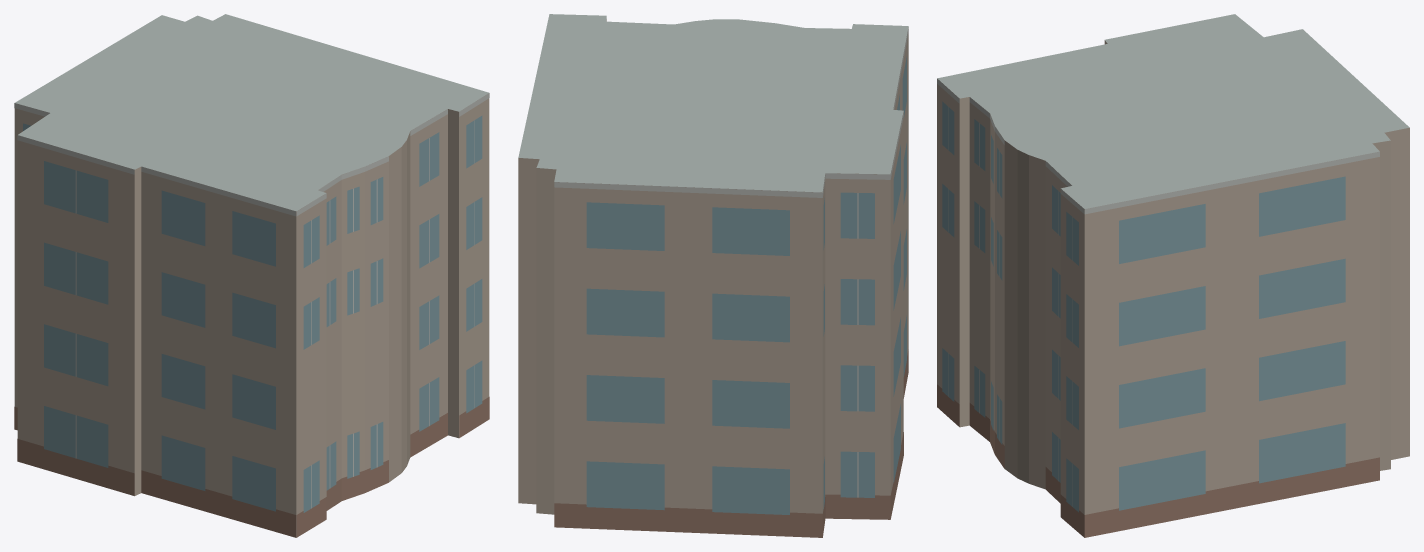
File: survey-upis-32809142.glb
3 views of the same model, side by side, from view 1: azimuth 30°, elevation 25°; view 2: azimuth 150°, elevation 25°; view 3: azimuth 270°, elevation 25° (orthographic). The views are drawn at different scales.
Visible parts, largest first — view 1: survey-upis-32809142.tmp; view 2: survey-upis-32809142.tmp; view 3: survey-upis-32809142.tmp.
Part boxes in pixels (left/top/right/bottom): survey-upis-32809142.tmp: left=14, top=14, right=489, bottom=537; survey-upis-32809142.tmp: left=518, top=14, right=908, bottom=537; survey-upis-32809142.tmp: left=937, top=14, right=1409, bottom=537.
Bounding box in the file's own units: 19.36 × 15.2 × 19.82.
